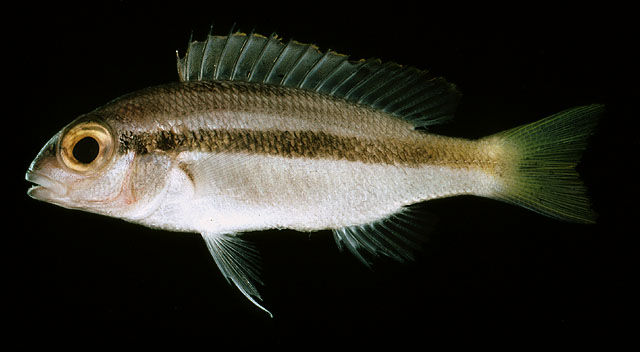fish: (23, 32, 604, 320)
